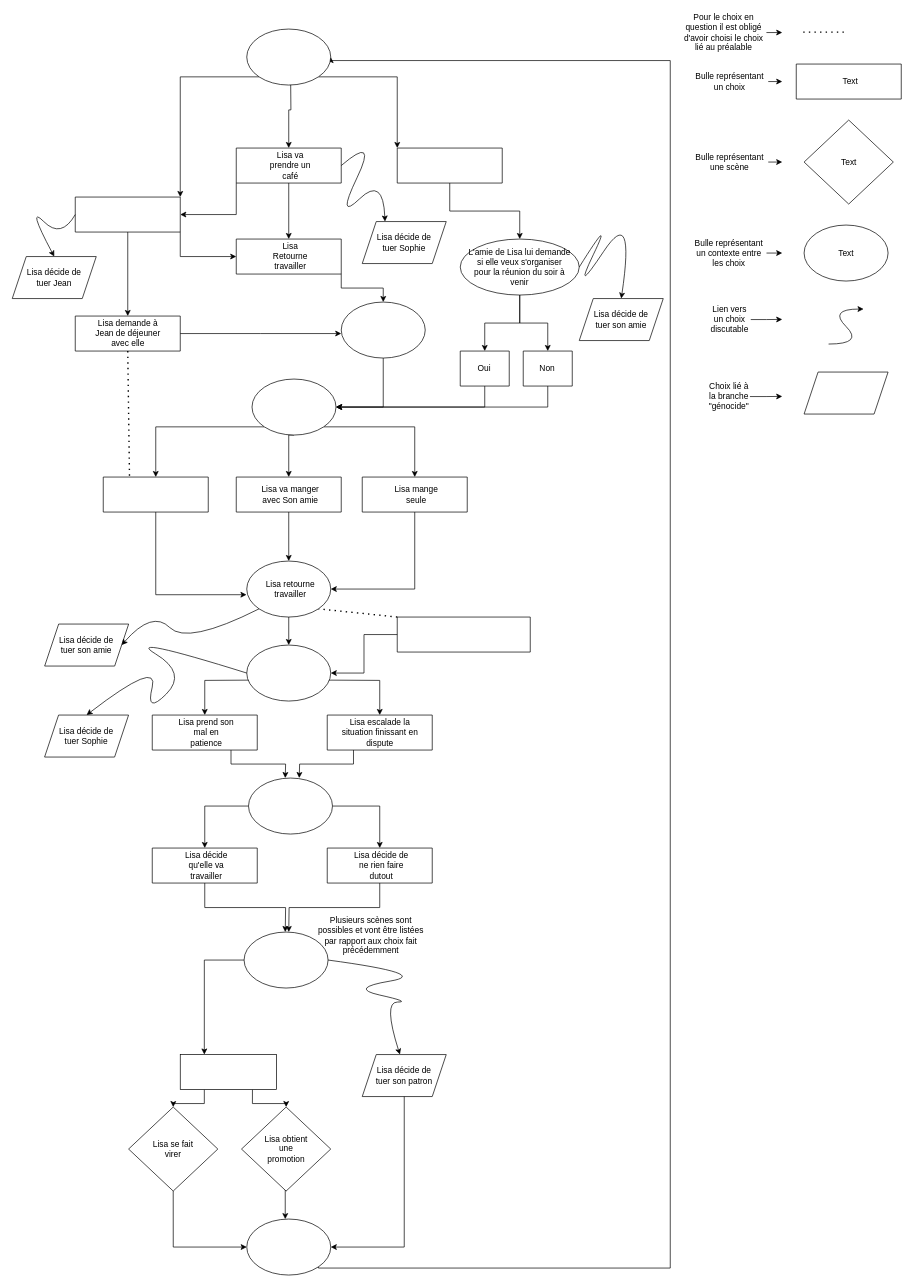
Image size: 914x1287. Some labels were removed from this diagram. Each missing label, with the centre of its shape:
Lisa continue de travailler: (383,329)
Lisa demande à son amie d'aller chercher des documents dans les archives: (463,634)
Lisa doit retourner travailler: (290,805)
Lisa décide de rester travailler: (449,165)
Lisa est devant son bureau: (288,56)
Lisa se décide avec qui elle va manger: (293,406)
Lisa va manger avec Jean: (155,494)
Lisa va à l'imprimante: (127,214)
Lisa écoute son patron: (228,1072)
Retour de boucle si conditions de sortie pas remplies: (288,1246)
Réunion, le patron parle: (285,959)
Sophie parle à Lisa: (288,672)
